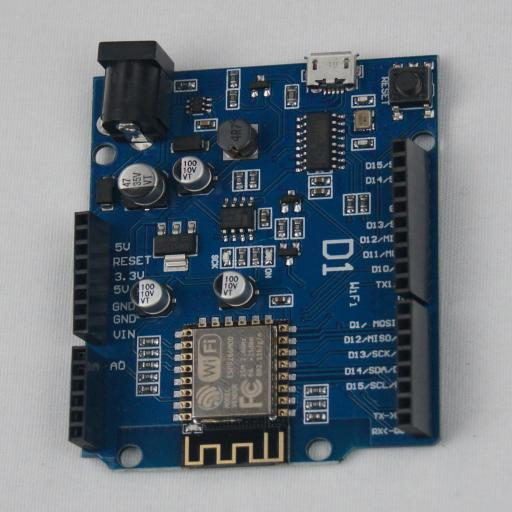Arduino Uno WiFi Shield: (69, 41, 441, 469)
